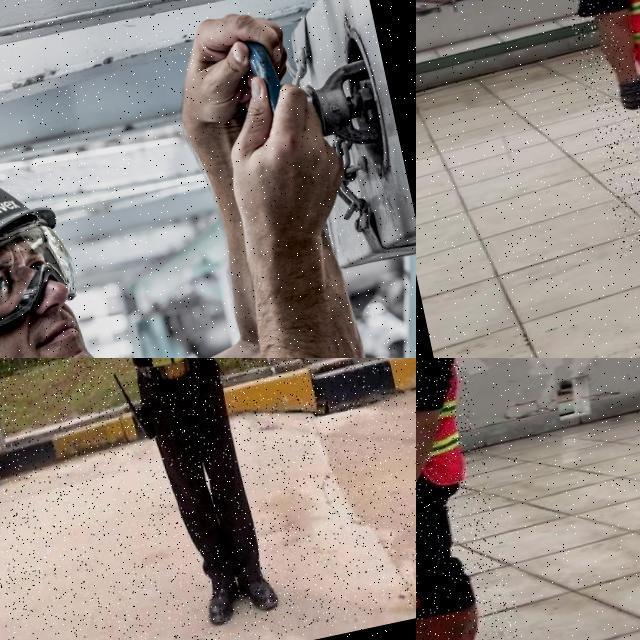boots: (201, 574, 247, 632), (238, 566, 284, 620)
helmet: (0, 135, 90, 358)
vest: (416, 358, 483, 511)
